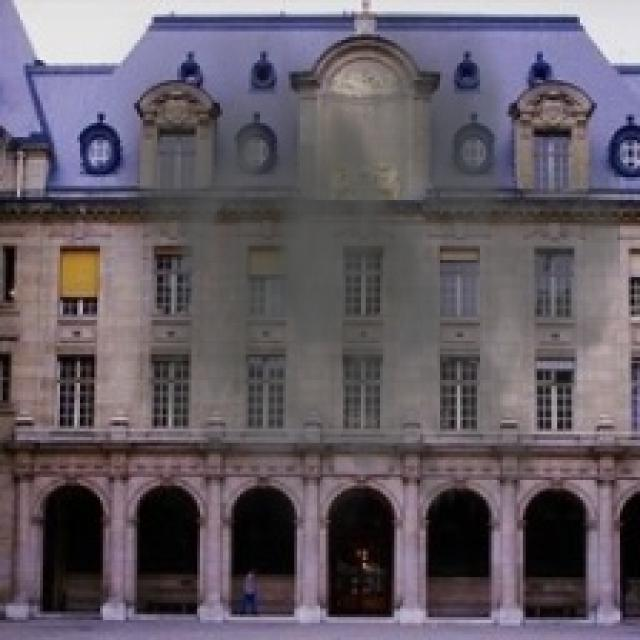smoke: (94, 12, 620, 574)
